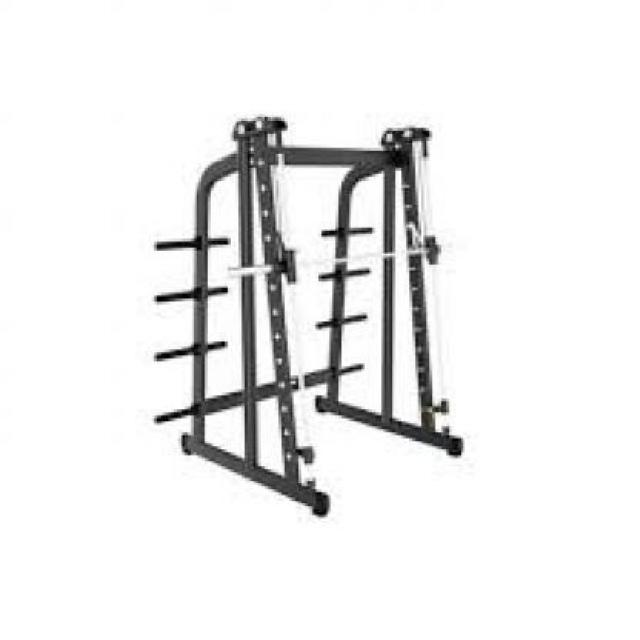smith machine: (154, 112, 466, 520)
